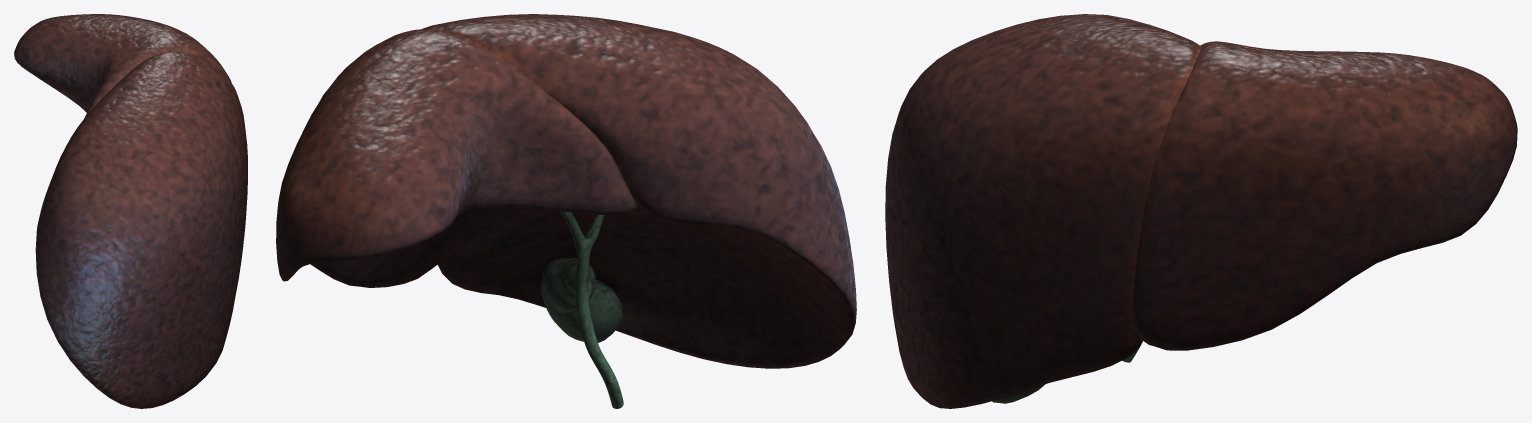
File: Liver.fbx
3 views of the same model, side by side, from view 1: azimuth 30°, elevation 25°; view 2: azimuth 150°, elevation 25°; view 3: azimuth 270°, elevation 25° (orthographic). The views are drawn at different scales.
Parts seen in each view (by area): view 1: Liver; view 2: Liver; view 3: Liver.
Part boxes in pixels (x1,y1,x2,y2): Liver: [14, 14, 247, 408]; Liver: [276, 14, 856, 408]; Liver: [885, 14, 1517, 408].
Size of the model in its own units: 0.1215 by 0.1237 by 0.175.
